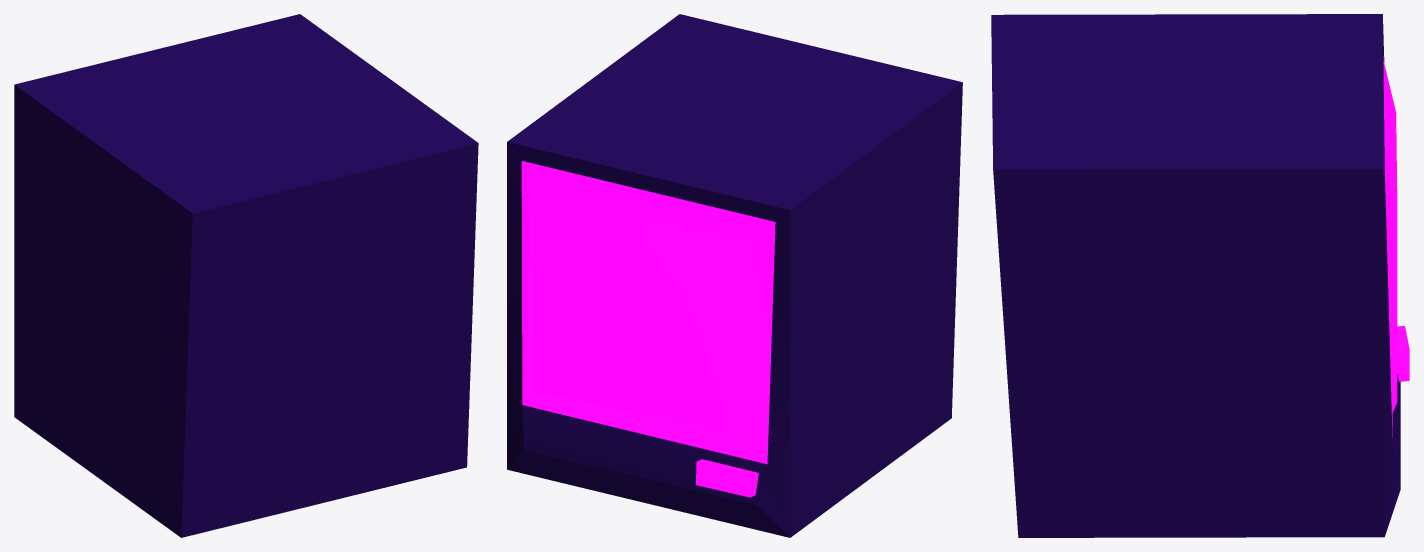
3 views of the same model, side by side, from view 1: azimuth 30°, elevation 25°; view 2: azimuth 150°, elevation 25°; view 3: azimuth 270°, elevation 25° (orthographic). The views are drawn at different scales.
Visible parts, largest first — view 1: Cube.002; view 2: Cube.002; view 3: Cube.002.
Boxes of the visible parts, bbox=[...] form: Cube.002: bbox=[14, 14, 478, 537]; Cube.002: bbox=[507, 14, 962, 537]; Cube.002: bbox=[991, 14, 1409, 537].
Size of the model in its own units: 38.94 by 42.95 by 44.23.
